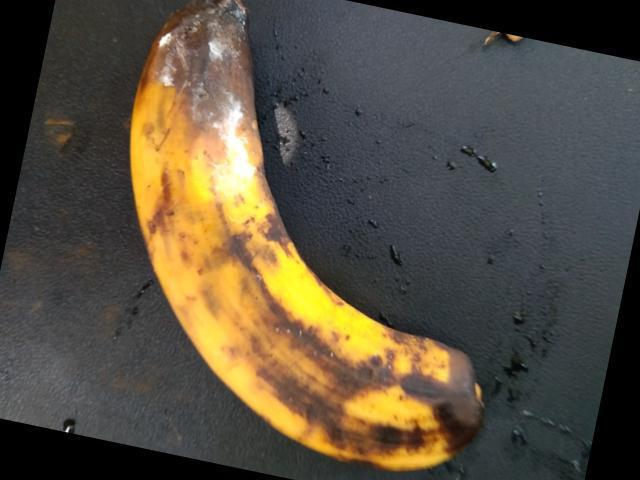overripe: (118, 6, 502, 479)
